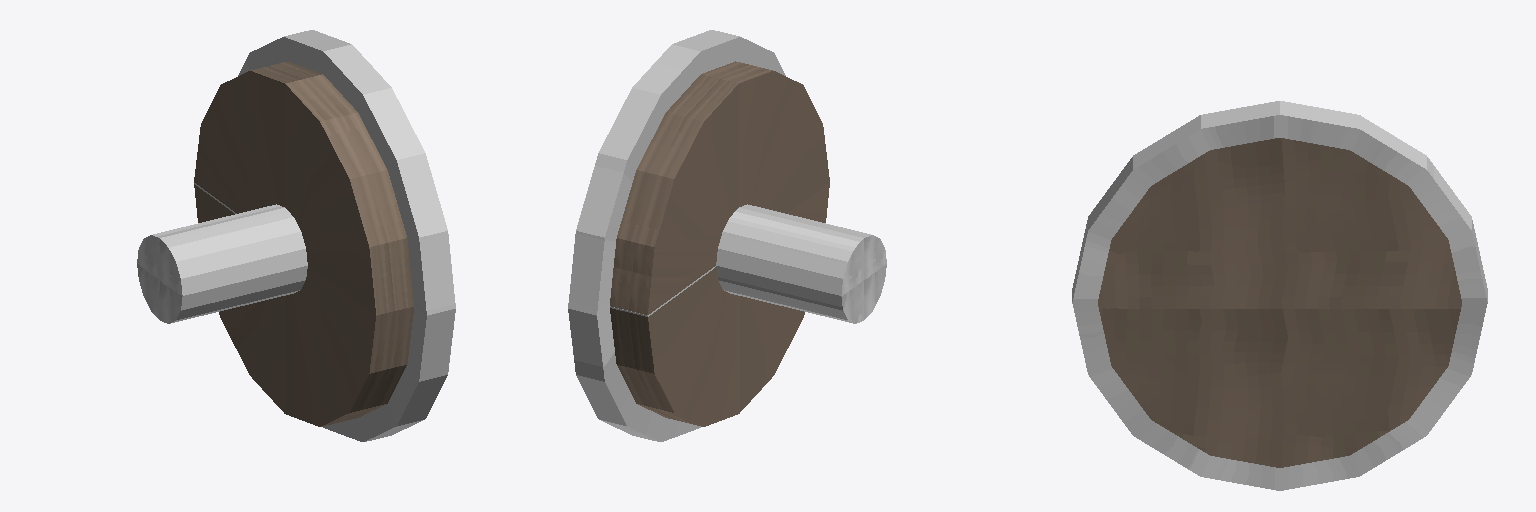
3 views of the same model, side by side, from view 1: azimuth 30°, elevation 25°; view 2: azimuth 150°, elevation 25°; view 3: azimuth 270°, elevation 25° (orthographic).
Parts seen in each view (by area): view 1: Wheel_柱体.001; view 2: Wheel_柱体.001; view 3: Wheel_柱体.001.
Part boxes in pixels (left/top/right/bottom): Wheel_柱体.001: left=137, top=30, right=455, bottom=441; Wheel_柱体.001: left=568, top=30, right=886, bottom=441; Wheel_柱体.001: left=1072, top=101, right=1487, bottom=490.
Size of the model in its own units: 0.6631 by 1.24 by 1.24.
Materials: 2 (1 with a texture image).